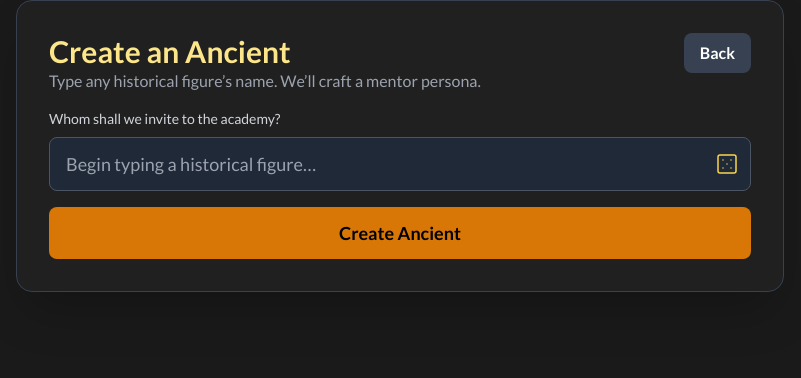
Test: CharacterCreator › fills the input when a suggestion is clicked
The width and height of the screenshot is (801, 378).
Focus the field with placeholder "Begin typing a historical figure…" at (400, 164), box [49,137,751,191]
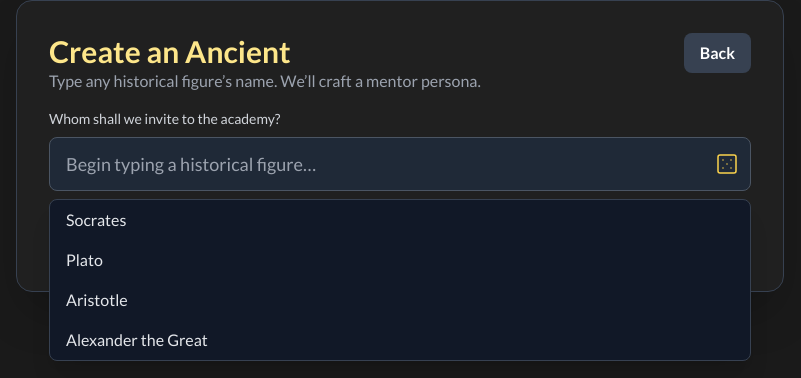
Click the button "Plato" at (84, 260), box [50,240,750,280]
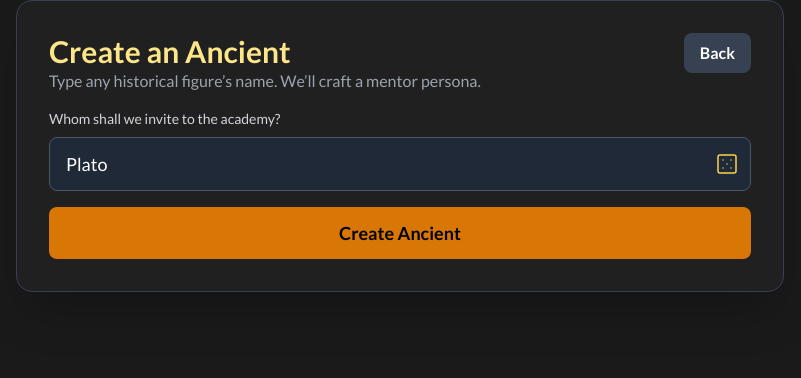
Now the field with placeholder "Begin typing a historical figure…" holds "Plato", box [49,137,751,191]
